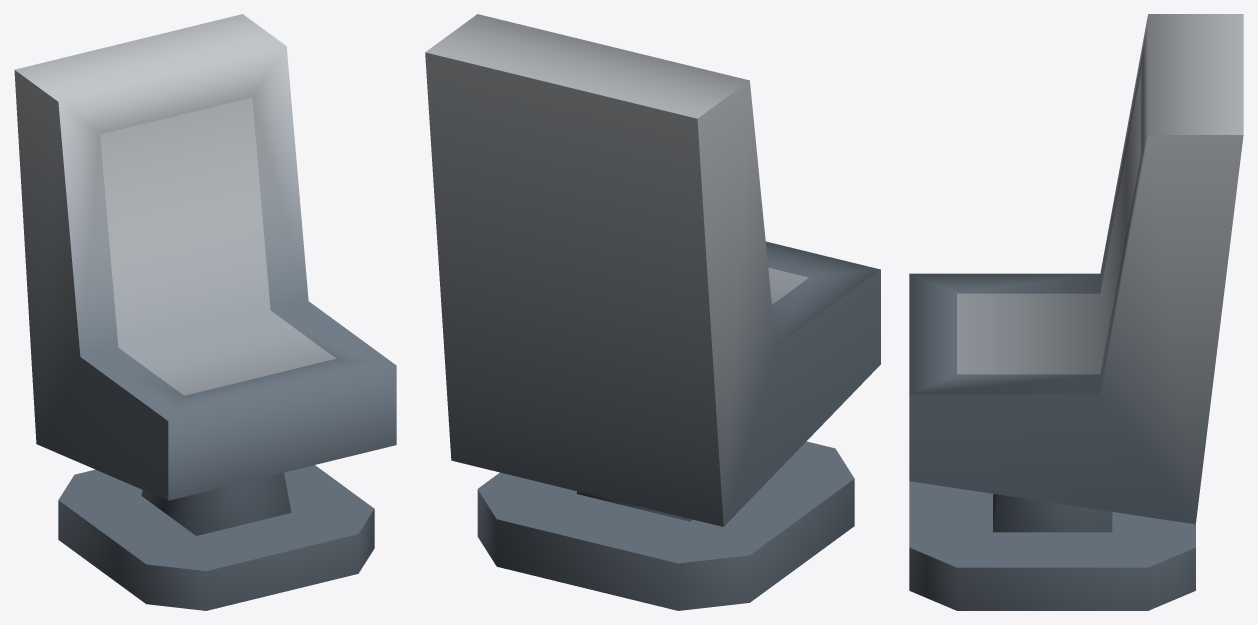
Rendered from chair-cushion.glb.
3 views of the same model, side by side, from view 1: azimuth 30°, elevation 25°; view 2: azimuth 150°, elevation 25°; view 3: azimuth 270°, elevation 25° (orthographic). The views are drawn at different scales.
Visible parts, largest first — view 1: chair-cushion; view 2: chair-cushion; view 3: chair-cushion.
Boxes of the visible parts, x1=… form: chair-cushion: x1=14, y1=14, x2=396, y2=610; chair-cushion: x1=425, y1=14, x2=880, y2=610; chair-cushion: x1=909, y1=14, x2=1243, y2=610.
Bounding box in the file's own units: 0.3 × 0.55 × 0.35.
